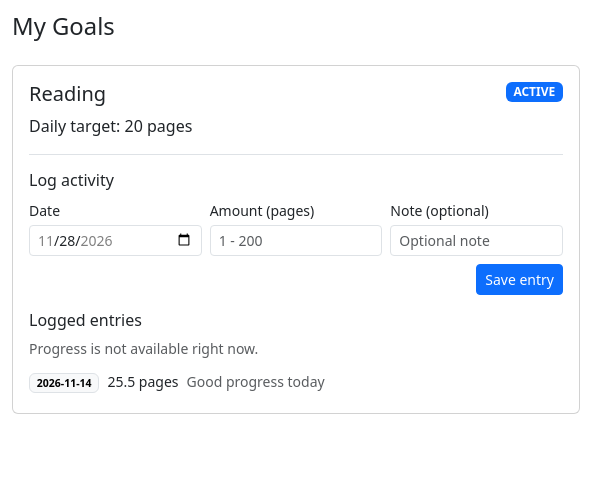
Scenario: F-04 Daily activity logging UI › TEST-UI-07: participant logs an activity entry and sees it added to the history
This screenshot has width=597, height=504.
Expected: the heading "Reading" is shown, [29,82,106,106]
Expected: the text "25.5 pages" is shown, [107,372,178,391]
// Fill form to log new entry
Type "30" into the number field labelled "Amount (pages)".
click(296, 240); type("30")  # box [210,225,382,256]
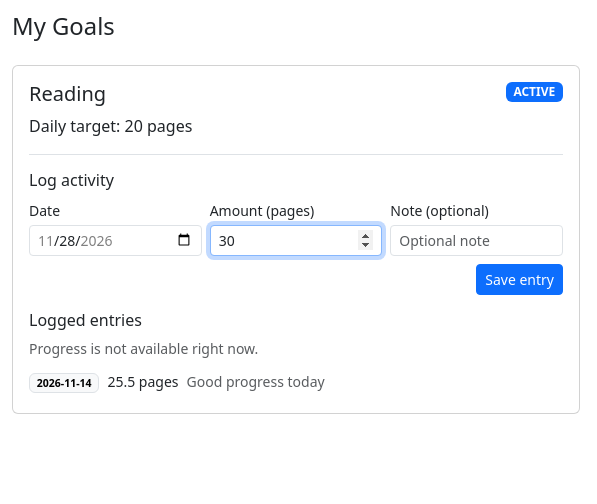
Type "Evening session" into the field labelled "Note (optional)".
click(477, 240); type("Evening session")  # box [390,225,563,256]
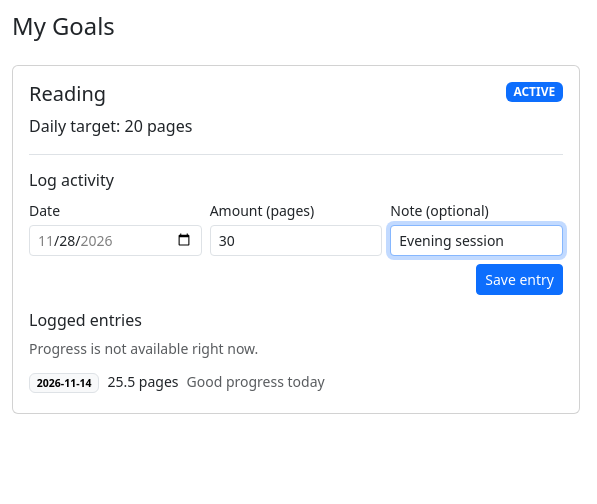
Click the button "Save entry".
click(520, 279)  # box [476,264,563,295]
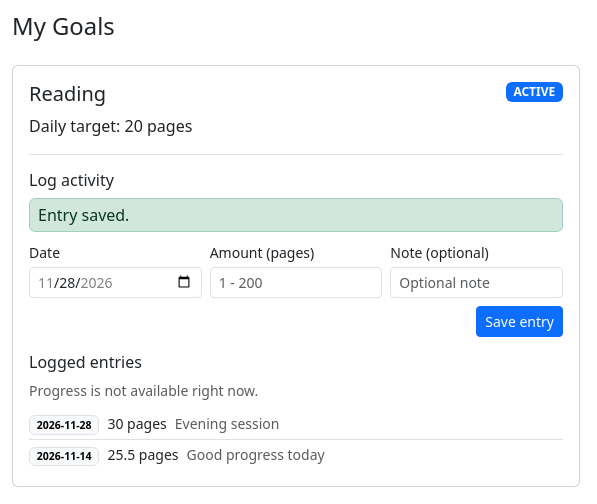
Result: the text "Entry saved." is shown at [29,198,563,232]
Result: the text "30 pages" is shown at [107,414,167,433]
Result: the text "Evening session" is shown at [175,414,280,433]
